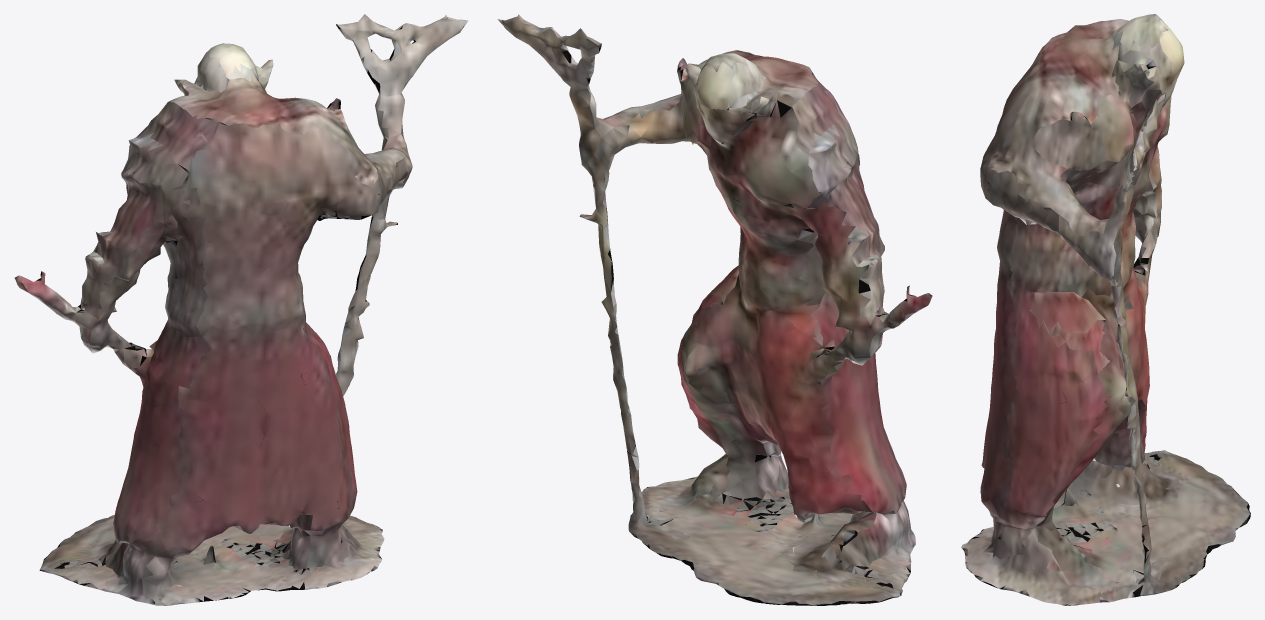
The picture shows the model from 3 angles, left to right: view 1: azimuth 30°, elevation 25°; view 2: azimuth 150°, elevation 25°; view 3: azimuth 270°, elevation 25°; orthographic projection. The views are drawn at different scales.
Visible parts, largest first — view 1: world; view 2: world; view 3: world.
Part boxes in pixels (x1,y1,x2,y2): world: (14,14,468,605); world: (497,14,932,605); world: (961,14,1250,605).
Size of the model in its own units: 0.7984 by 0.8482 by 0.4179.
Materials: 1 (1 with a texture image).
